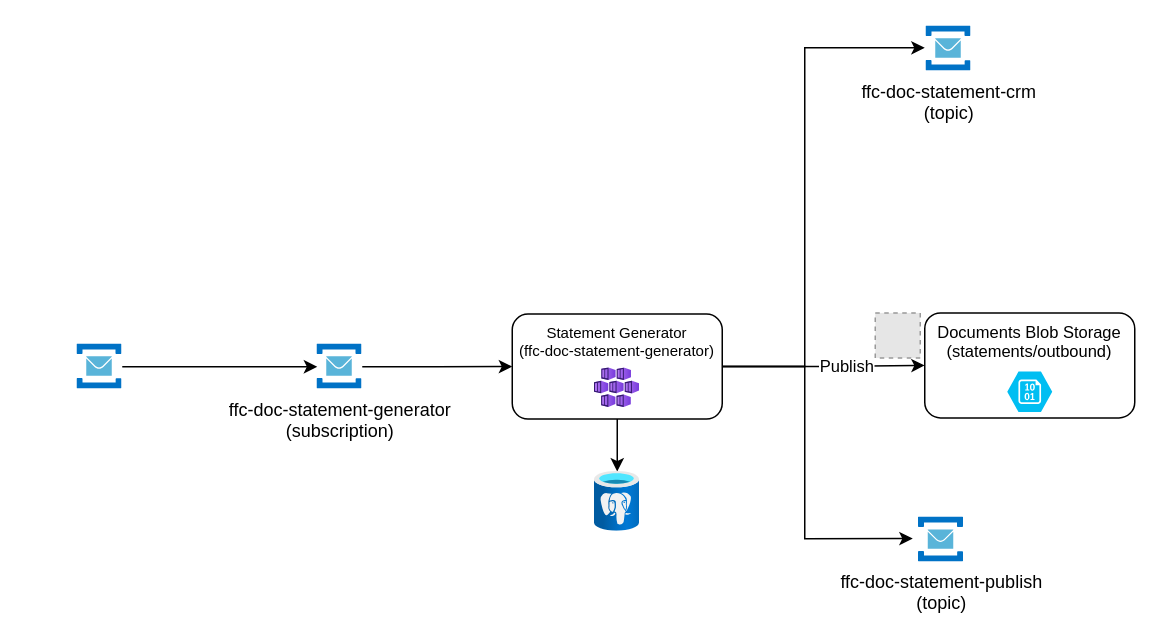
Some shapes in this 1161 by 642 pixel diagram are drawn without their labels. Grey dashed boxes stand in for pictures. Here are the shapes that lost their labels. From the top down, the centre of each, then its label:
At (x=99, y=366): "ffc-doc-statements (topic)".
At (x=616, y=501): "generator database".
